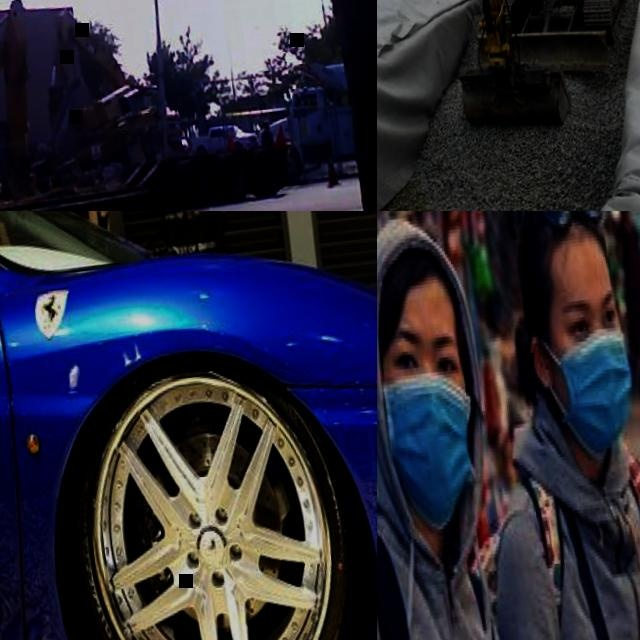Mask: (378, 368, 487, 531), (552, 327, 640, 464)
NO-Hardhat: (377, 211, 460, 327), (508, 211, 611, 293), (263, 120, 270, 127)
NO-Safety Vest: (510, 465, 640, 640), (377, 507, 510, 640), (615, 218, 640, 295), (84, 211, 110, 230), (0, 211, 6, 248)
Person: (444, 211, 640, 640), (377, 211, 525, 640), (608, 211, 640, 397), (72, 211, 112, 233), (259, 119, 275, 149)
Safety Cone: (326, 155, 340, 187), (277, 124, 288, 148), (227, 129, 238, 152)
machinery: (423, 0, 640, 136), (36, 0, 191, 180), (260, 53, 377, 178), (0, 0, 51, 211)
vehicle: (0, 211, 377, 640), (189, 119, 259, 158)
